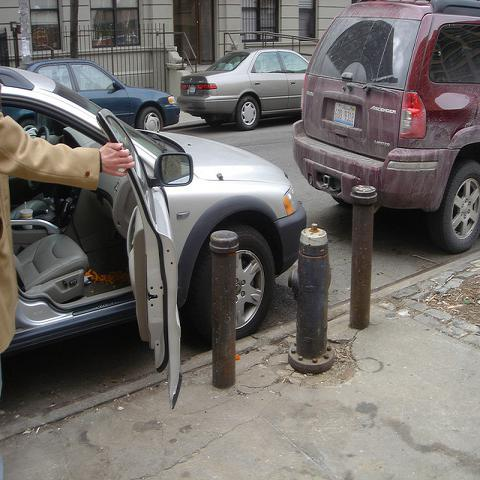car: (0, 66, 307, 410), (290, 0, 480, 255), (23, 57, 179, 132), (177, 49, 309, 130)
